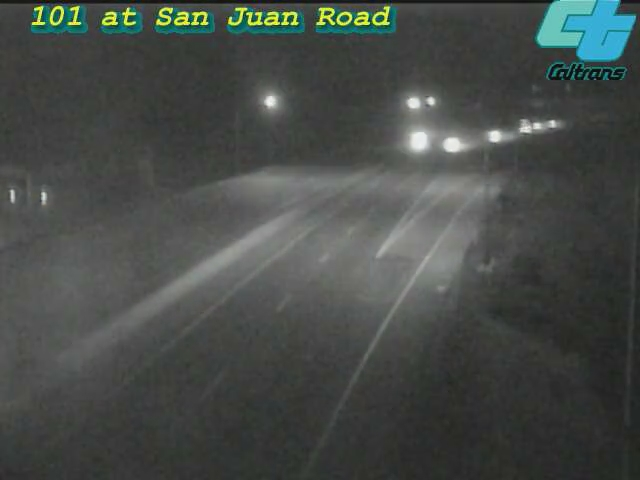vehicle: (251, 135, 331, 215), (396, 114, 446, 164), (529, 99, 579, 149), (503, 103, 553, 153), (470, 113, 520, 163), (429, 120, 479, 170)
